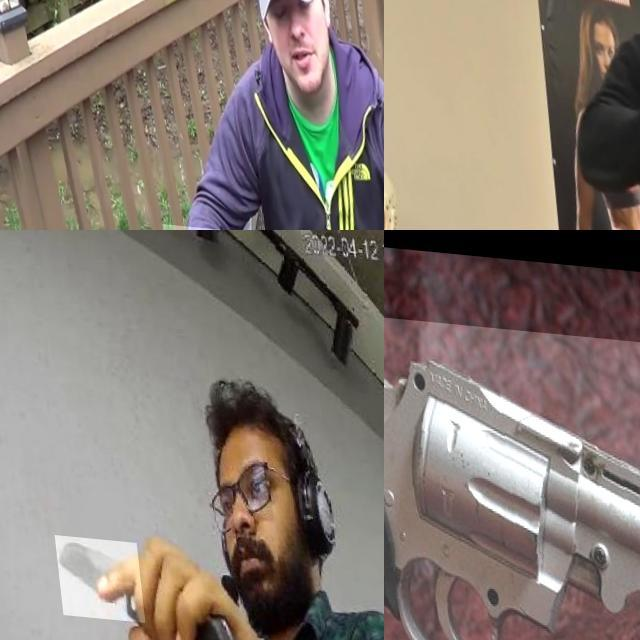-: (46, 531, 135, 617)
gun-knife-thesis - v11 Yolov5 augmented: (384, 300, 640, 640)
